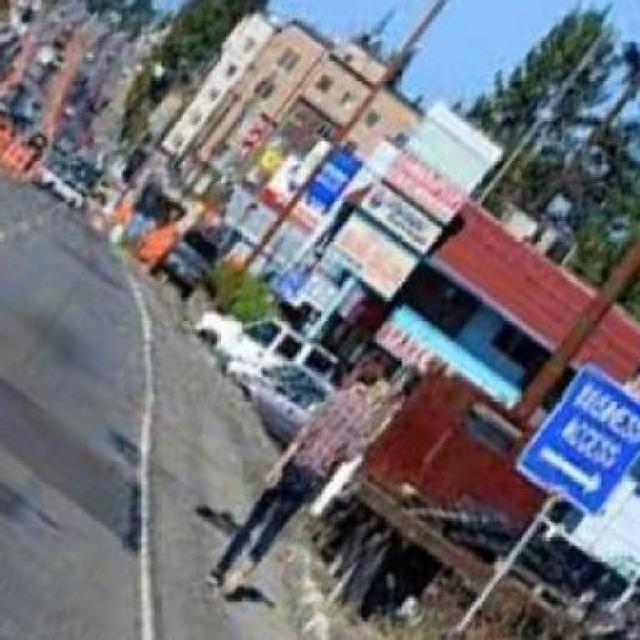Person: (202, 346, 392, 608)
